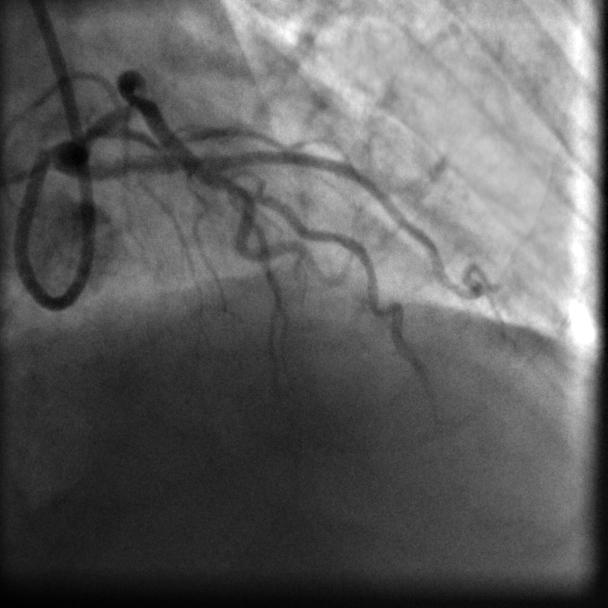Stenosis: (119, 85, 150, 113)
